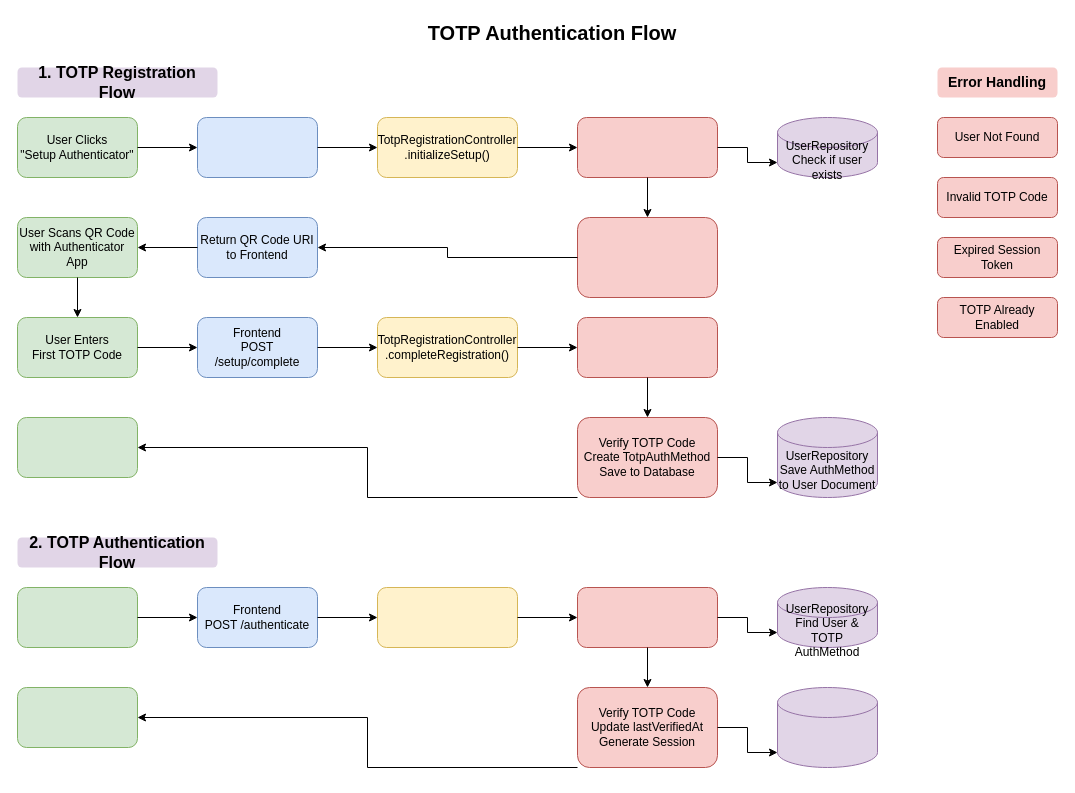
Image size: 1075x793. Some labels were removed from this diagram. Each missing label, with the centre of its shape:
Authentication Success User Logged In: point (77, 717)
Frontend POST /setup/initialize: point (257, 147)
Generate Base32 Secret Create QR Code URI Store temporarily: point (647, 257)
Success Response TOTP Enabled: point (77, 447)
TotpAuthController .authenticate(): point (447, 617)
TotpAuthService .authenticateWithTotp(): point (647, 617)
TotpRegistrationService .enableTotp(): point (647, 347)
TotpRegistrationService .generateTotpSecret(): point (647, 147)
User Enters Email and TOTP Code: point (77, 617)
UserRepository Update lastVerifiedAt: point (827, 727)
